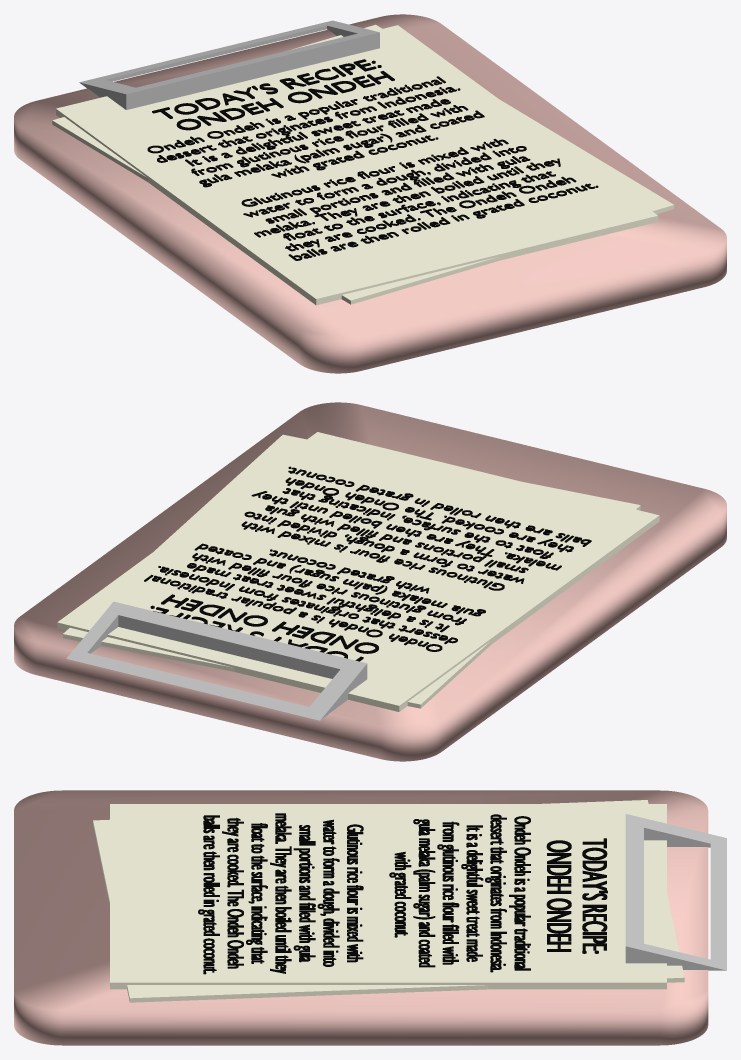
File: OOclipboard.fbx
3 views of the same model, one above another, from view 1: azimuth 30°, elevation 25°; view 2: azimuth 150°, elevation 25°; view 3: azimuth 270°, elevation 25° (orthographic). The views are drawn at different scales.
Visible parts, largest first — view 1: Cube.004, obj_0.005, Text.003, Cube.003, Cube.005, Text.004; view 2: Cube.004, obj_0.005, Text.003, Cube.003, Cube.005, Text.004; view 3: Cube.004, obj_0.005, Text.003, Cube.003, Cube.005, Text.004.
Boxes of the visible parts, x1,y1,x2,y2 form: Cube.004: (56, 25, 658, 305); obj_0.005: (14, 14, 726, 373); Text.003: (147, 76, 598, 260); Cube.003: (79, 20, 379, 109); Cube.005: (52, 24, 674, 304); Text.004: (152, 59, 394, 130); Cube.004: (57, 432, 659, 711); obj_0.005: (14, 402, 726, 761); Text.003: (144, 466, 591, 651); Cube.003: (66, 601, 367, 720); Cube.005: (63, 434, 640, 708); Text.004: (150, 594, 378, 661); Cube.004: (110, 804, 666, 989); obj_0.005: (14, 790, 708, 1045); Text.003: (198, 813, 530, 974); Cube.003: (625, 814, 726, 970); Cube.005: (93, 800, 684, 1002); Text.004: (546, 838, 607, 953).
Size of the model in its own units: 263 by 32.69 by 360.
